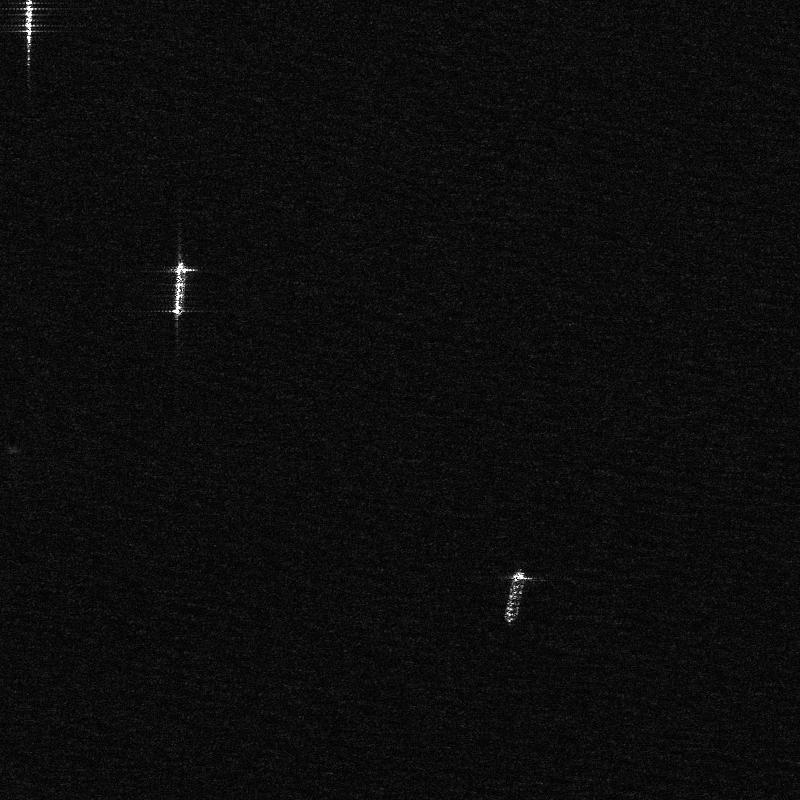ship: (503, 570, 526, 621), (172, 262, 186, 315), (26, 0, 32, 54)
